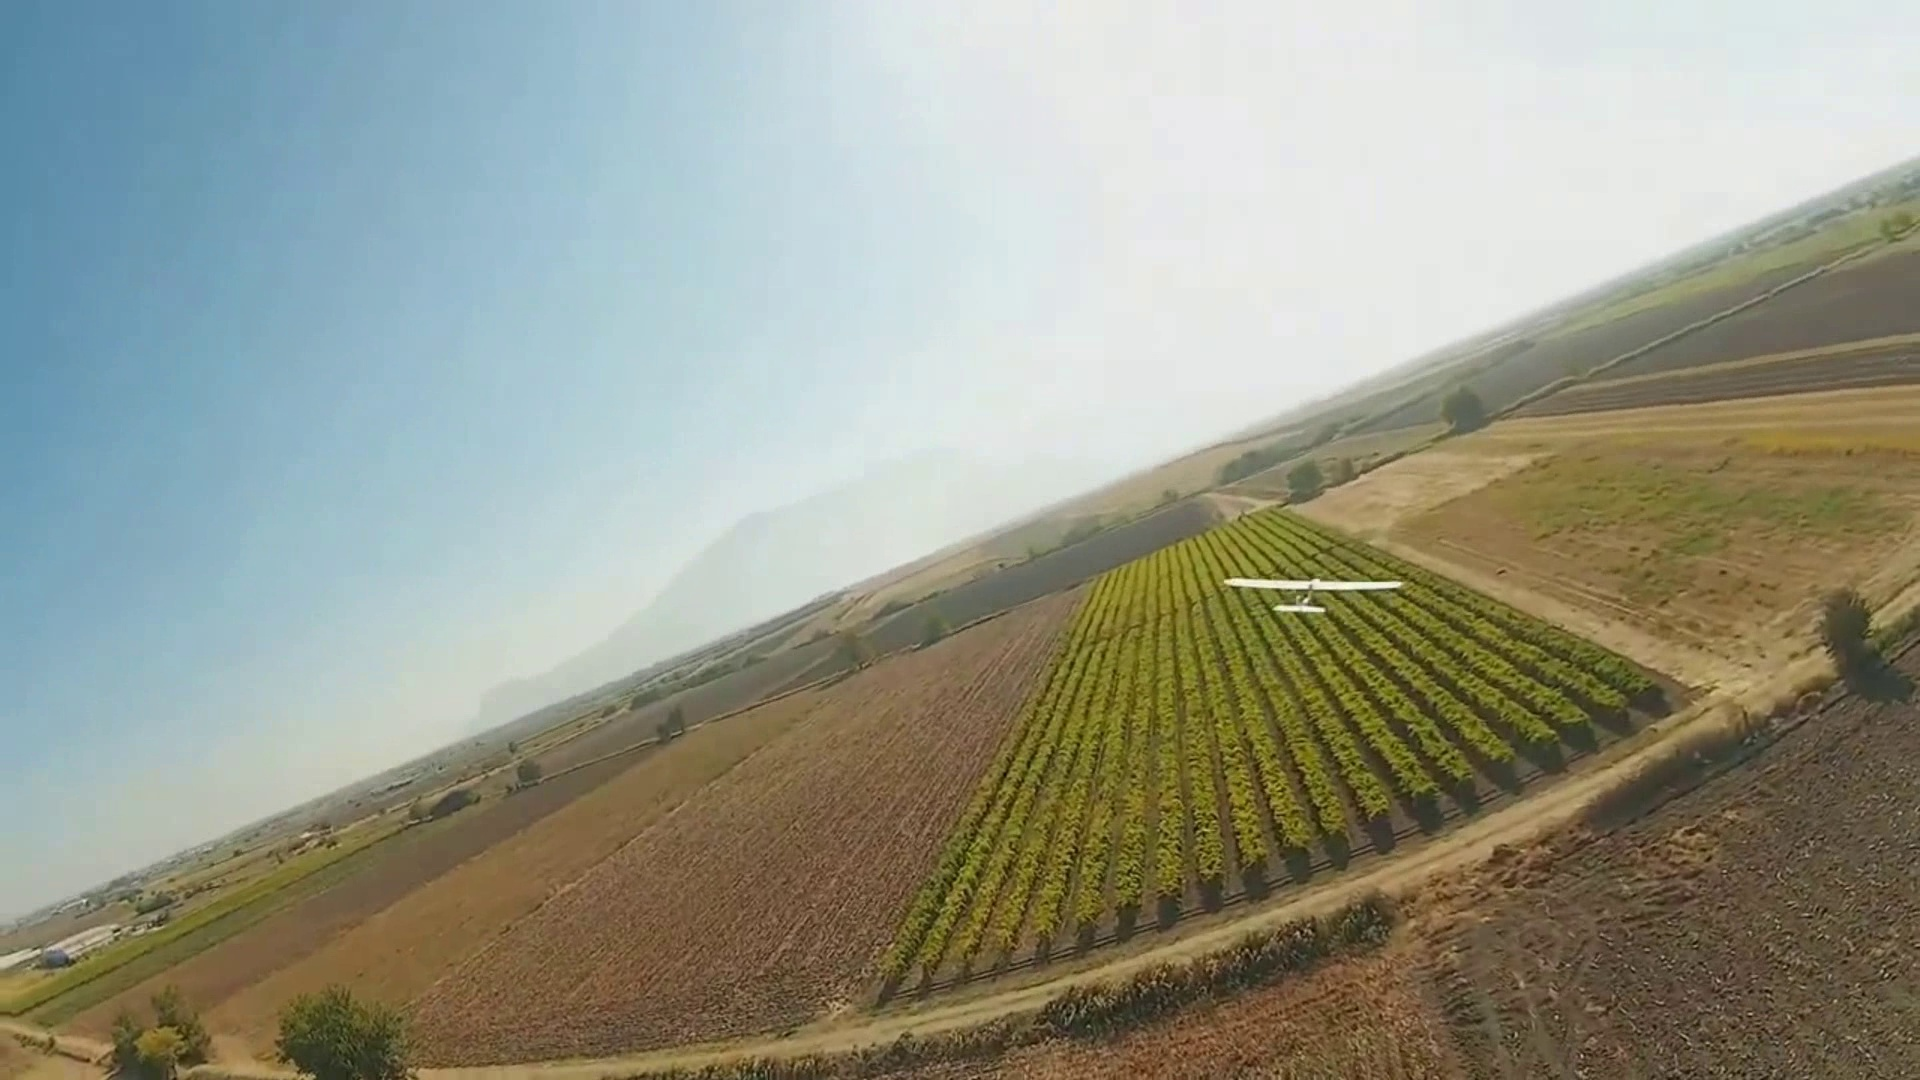airplane: (24, 154, 1920, 1029)
